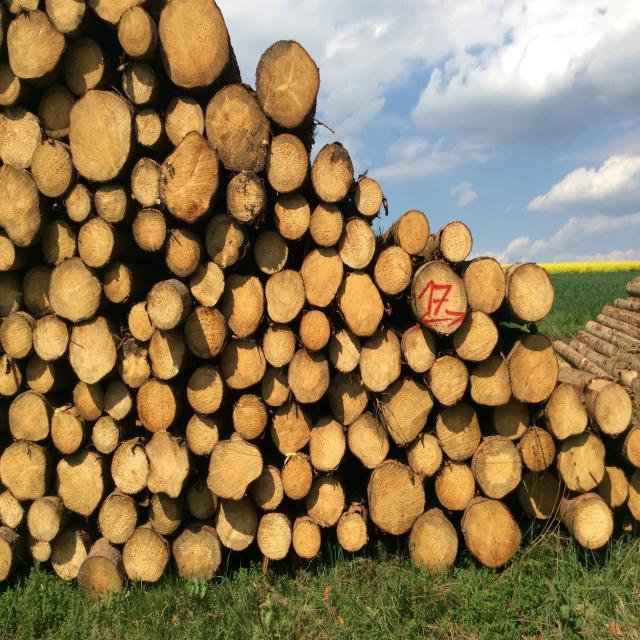wood-log: (158, 0, 228, 87), (204, 84, 270, 176), (71, 93, 136, 184), (256, 39, 319, 128), (166, 135, 224, 225), (366, 460, 424, 536), (410, 263, 467, 337), (8, 8, 68, 78), (464, 498, 523, 566), (378, 379, 435, 446), (507, 333, 557, 403), (208, 439, 264, 501), (48, 256, 102, 320), (0, 166, 41, 250), (68, 319, 118, 387), (408, 511, 458, 578), (58, 450, 105, 517), (472, 438, 522, 500), (148, 430, 193, 496), (557, 434, 606, 494), (338, 274, 384, 337), (220, 277, 266, 339), (175, 524, 224, 582), (438, 399, 483, 461), (0, 441, 48, 499), (122, 526, 170, 583), (358, 325, 399, 391), (510, 262, 554, 322), (63, 36, 107, 96), (300, 249, 344, 308), (267, 134, 310, 194), (0, 106, 42, 167), (28, 139, 72, 197), (204, 212, 248, 270), (217, 339, 266, 391), (313, 145, 355, 205), (545, 384, 588, 442), (345, 414, 388, 470), (465, 256, 507, 313), (286, 349, 330, 403), (80, 546, 124, 600), (184, 308, 228, 361), (264, 268, 306, 322), (146, 280, 191, 330), (226, 172, 269, 224), (137, 379, 179, 432), (217, 496, 258, 550), (471, 350, 511, 405), (455, 314, 500, 362), (8, 392, 51, 442), (271, 403, 311, 456), (110, 440, 149, 494), (575, 495, 613, 550), (50, 526, 88, 581), (98, 492, 138, 544), (596, 383, 634, 437), (435, 462, 476, 512), (522, 472, 563, 522), (186, 361, 226, 412), (338, 217, 377, 269), (374, 247, 414, 297), (305, 477, 345, 527), (330, 372, 370, 422), (309, 419, 346, 473), (430, 355, 470, 404), (165, 95, 205, 144), (165, 228, 203, 278), (146, 330, 184, 380), (119, 6, 155, 58), (40, 82, 76, 134), (80, 218, 116, 268), (273, 192, 310, 240), (402, 325, 438, 373), (259, 512, 294, 561), (407, 434, 445, 478), (190, 263, 228, 306), (523, 426, 560, 470), (233, 396, 269, 441), (255, 229, 291, 274), (34, 317, 69, 363), (123, 59, 158, 105), (282, 452, 316, 499), (51, 406, 84, 454), (398, 208, 432, 254), (328, 328, 362, 374), (492, 399, 530, 440), (131, 156, 162, 206), (27, 498, 62, 542), (0, 314, 33, 360), (132, 210, 168, 252), (309, 205, 345, 247), (262, 326, 298, 367), (44, 0, 86, 34), (251, 467, 283, 510), (598, 466, 630, 509), (151, 493, 185, 533), (441, 222, 474, 263), (185, 480, 218, 520), (336, 512, 368, 553), (188, 414, 220, 455), (89, 0, 143, 24), (299, 310, 331, 350), (260, 367, 292, 407), (95, 184, 128, 222), (121, 350, 152, 390), (103, 262, 132, 303), (26, 356, 56, 395), (353, 178, 382, 218), (294, 517, 322, 558), (128, 302, 156, 341), (64, 184, 92, 222), (0, 272, 22, 318), (93, 416, 120, 453), (136, 111, 162, 148), (0, 60, 20, 105), (0, 491, 23, 528), (26, 535, 52, 567), (0, 358, 18, 397), (625, 426, 640, 471), (0, 235, 16, 272), (629, 471, 640, 522), (0, 536, 12, 580), (9, 0, 42, 13), (0, 0, 9, 45)
